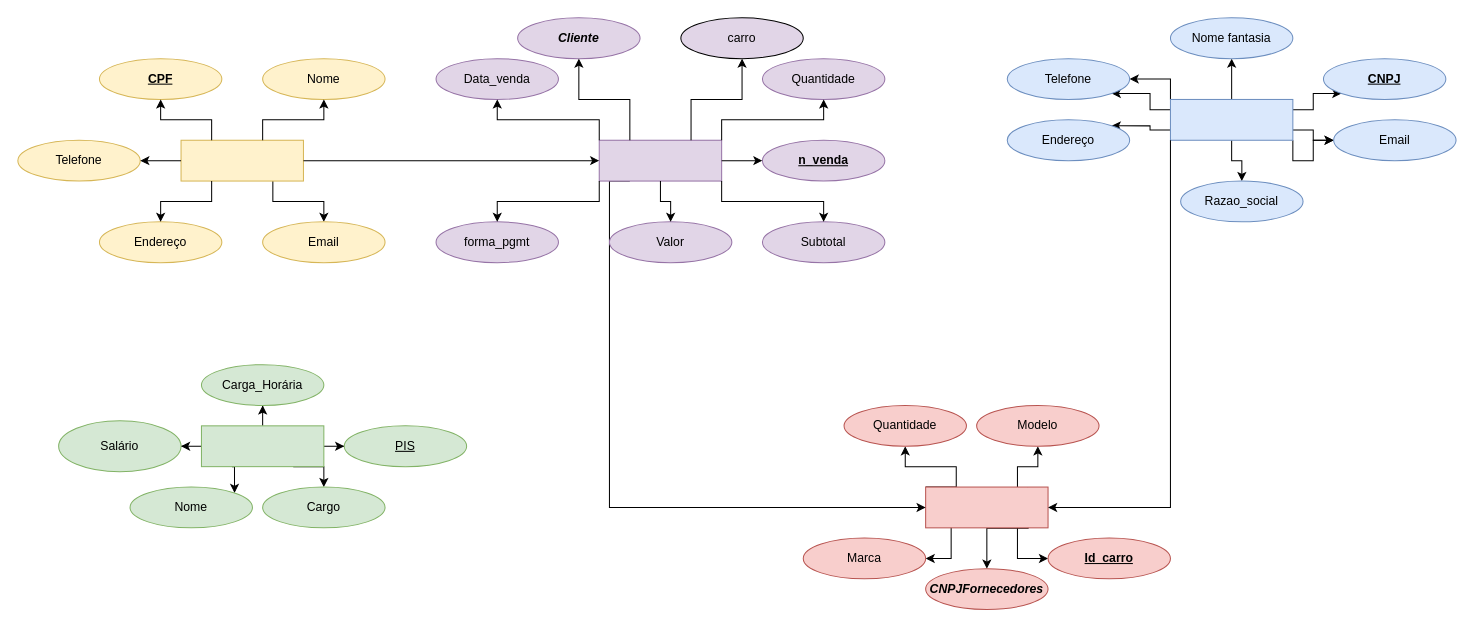
This 1474x627 diagram has some shape labels left out. The shapes that lost their labels are listed below. From the top down, each one's box as (x1, y1, x2, y2) in pixels, then its label:
(1169, 98, 1293, 140): FORNECEDORES
(180, 139, 303, 181): CLEINTES
(598, 139, 722, 181): VENDAS
(200, 425, 324, 467): FUNCIONÁRIOS
(925, 486, 1048, 528): CARROS
